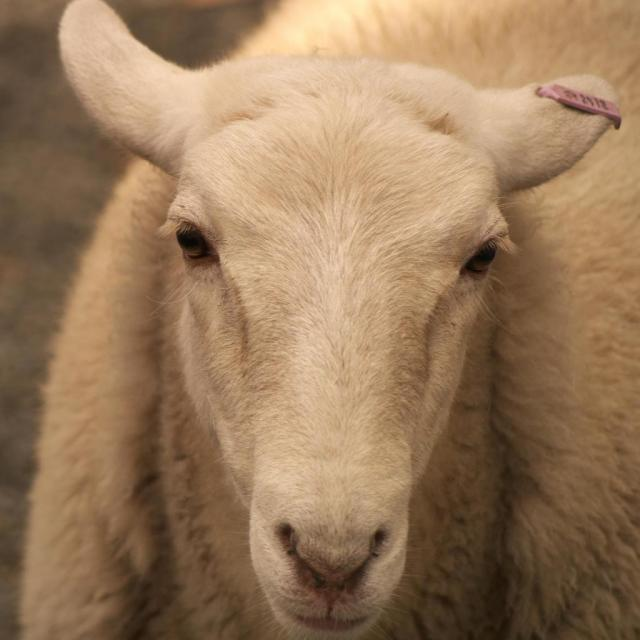Sheep: (16, 0, 640, 640)
